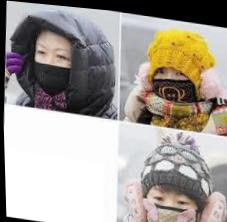OK: (150, 56, 198, 108), (140, 181, 200, 222)
WRONG: (30, 40, 76, 91)
